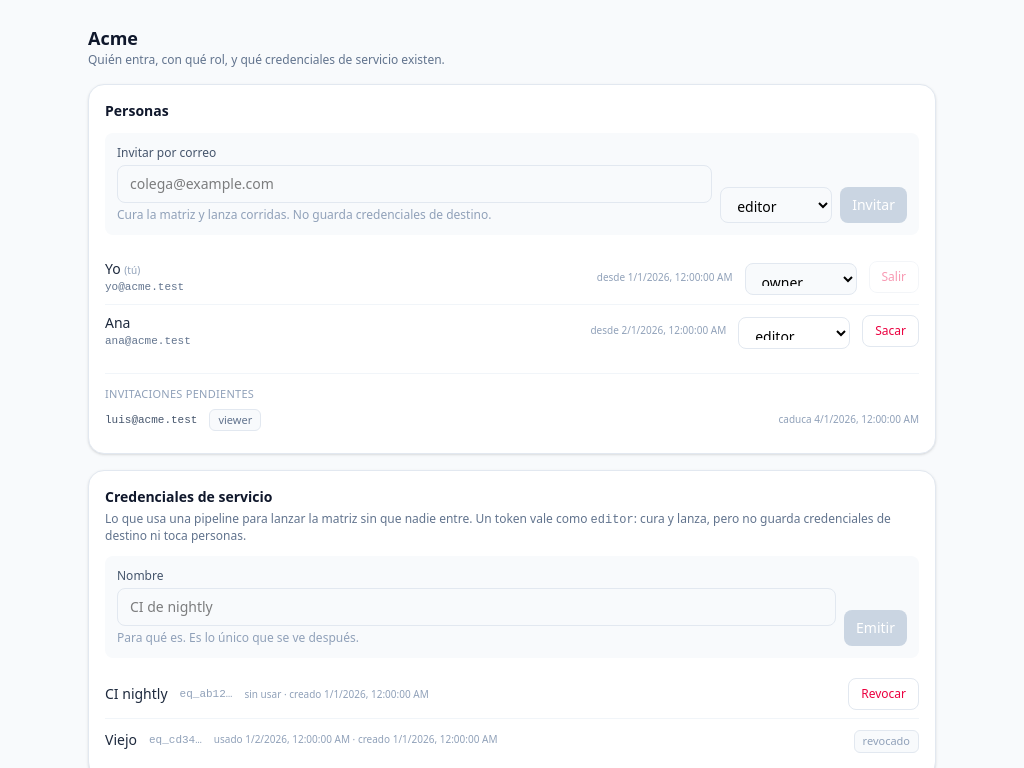
Test: SettingsPage › sacar a alguien lo borra, y un error del servidor se enseña
This screenshot has width=1024, height=768.
expect the text "ana@acme.test" is shown: met, box [105,332,191,349]
Click the button "Sacar" at (891, 331), box [862,315,919,347]
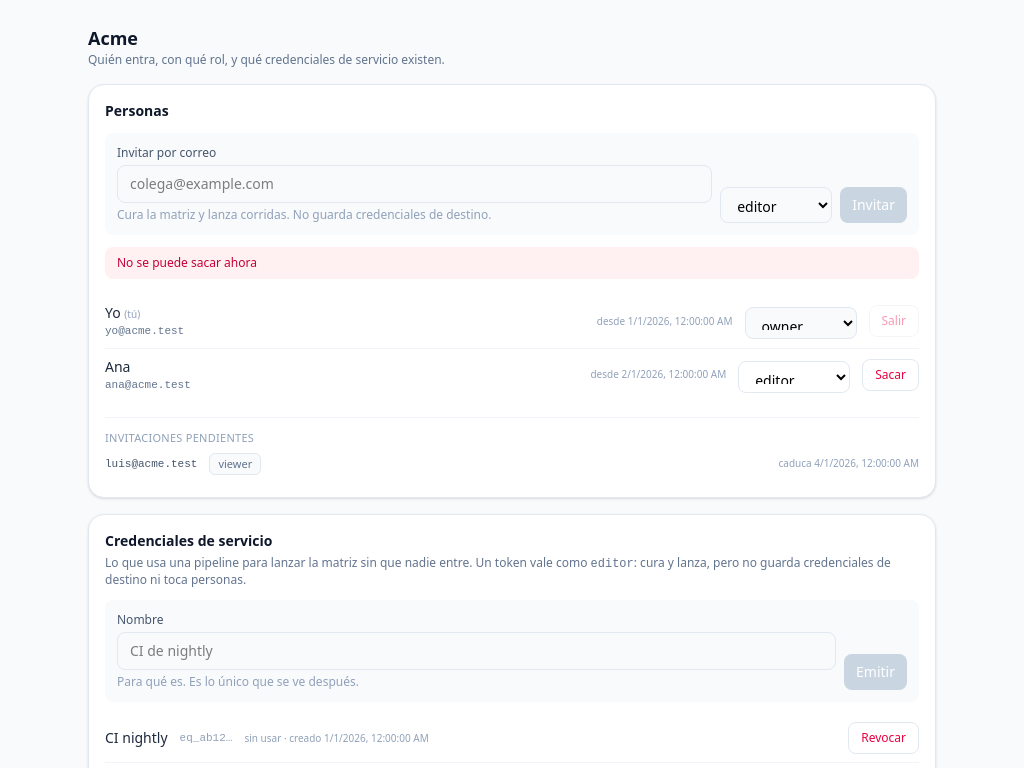
expect the text "No se puede sacar ahora" is shown: met, box [105,247,919,279]
